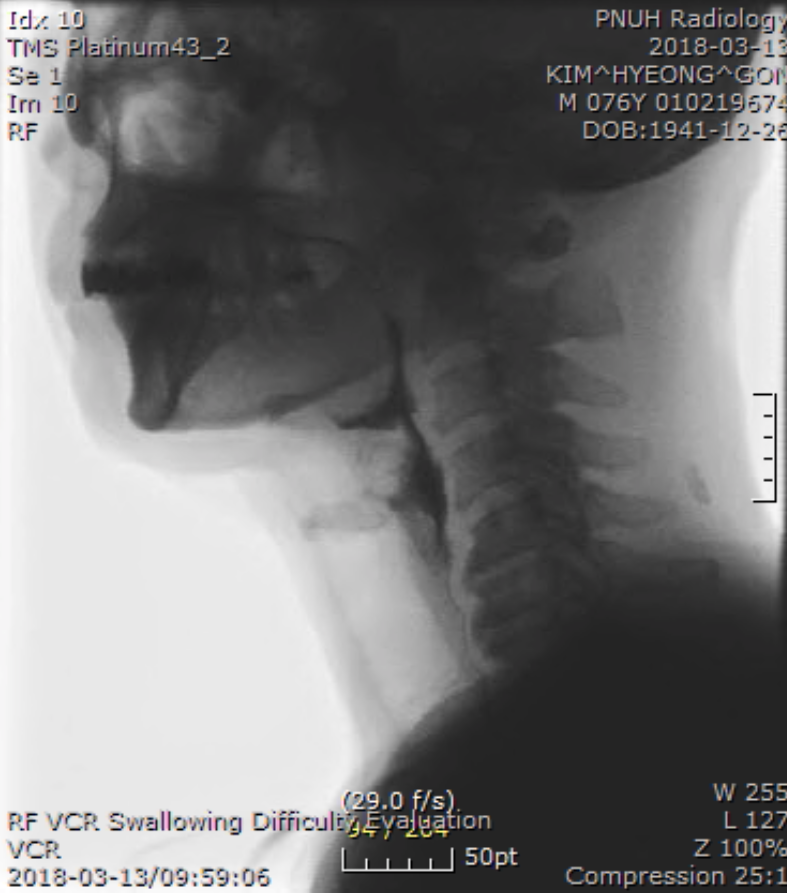dros: (418, 483, 456, 540)
food: (376, 434, 462, 526)
uros: (336, 396, 394, 438)
